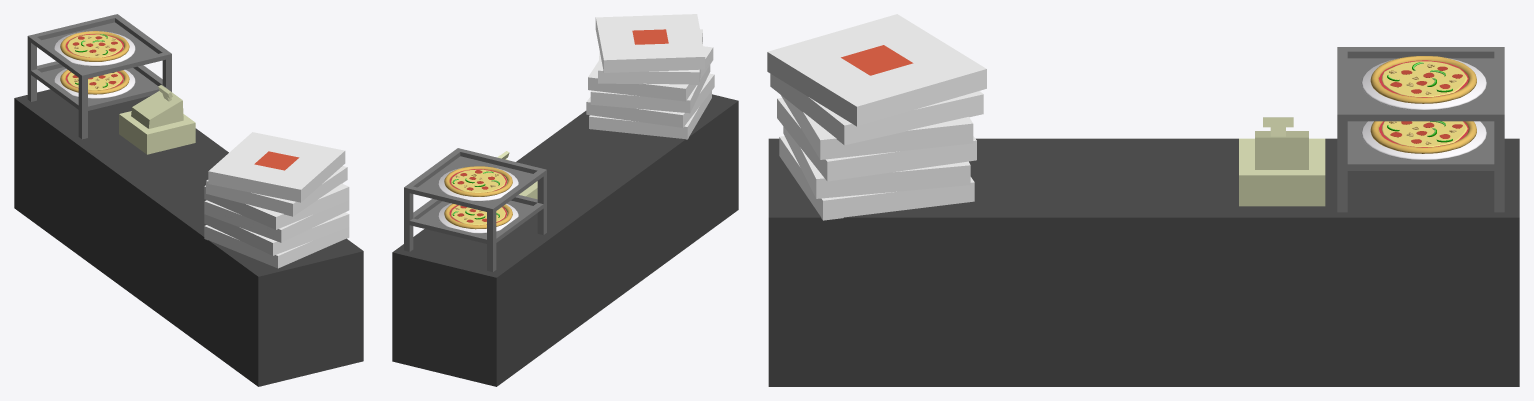
File: pizzadesk.glb
3 renders of one model, left to right at view 1: azimuth 30°, elevation 25°; view 2: azimuth 150°, elevation 25°; view 3: azimuth 270°, elevation 25°, orthographic. The views are drawn at different scales.
Parts seen in each view (by area): view 1: Cube.010, Cheese.001, crust.001, plate.001, Cheese.002, plate.002, crust.002; view 2: Cube.010, Cheese.001, crust.001, Cheese.002, plate.001, plate.002, crust.002; view 3: Cube.010, Cheese.001, crust.001, Cheese.002, plate.001, plate.002, crust.002.
Part boxes in pixels (left/top/right/bottom): Cube.010: left=14, top=14, right=363, bottom=386; Cheese.001: left=67, top=34, right=122, bottom=57; crust.001: left=60, top=31, right=129, bottom=61; plate.001: left=54, top=31, right=135, bottom=66; Cheese.002: left=67, top=71, right=122, bottom=90; plate.002: left=54, top=68, right=135, bottom=98; crust.002: left=60, top=69, right=129, bottom=94; Cube.010: left=392, top=14, right=738, bottom=386; Cheese.001: left=451, top=169, right=505, bottom=192; crust.001: left=444, top=166, right=512, bottom=196; Cheese.002: left=451, top=205, right=505, bottom=225; plate.001: left=438, top=167, right=518, bottom=201; plate.002: left=438, top=203, right=518, bottom=233; crust.002: left=444, top=203, right=512, bottom=229; Cube.010: left=767, top=14, right=1519, bottom=386; Cheese.001: left=1382, top=61, right=1467, bottom=96; crust.001: left=1370, top=56, right=1476, bottom=103; Cheese.002: left=1382, top=121, right=1467, bottom=146; plate.001: left=1361, top=58, right=1486, bottom=109; plate.002: left=1361, top=121, right=1486, bottom=159; crust.002: left=1370, top=121, right=1476, bottom=153.
Bounding box in the file's own units: 2.35 × 3.4 × 8.05.
